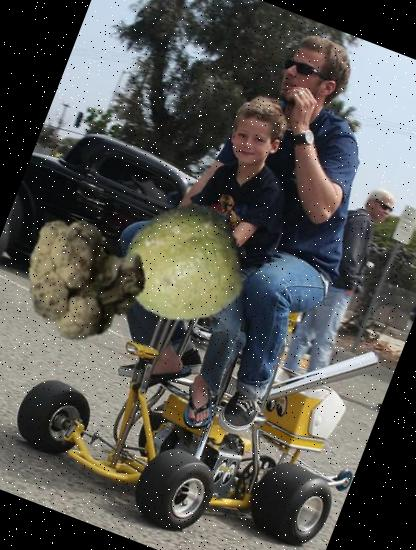Cauliflower: (3, 195, 167, 359)
Limes: (101, 182, 264, 345)
